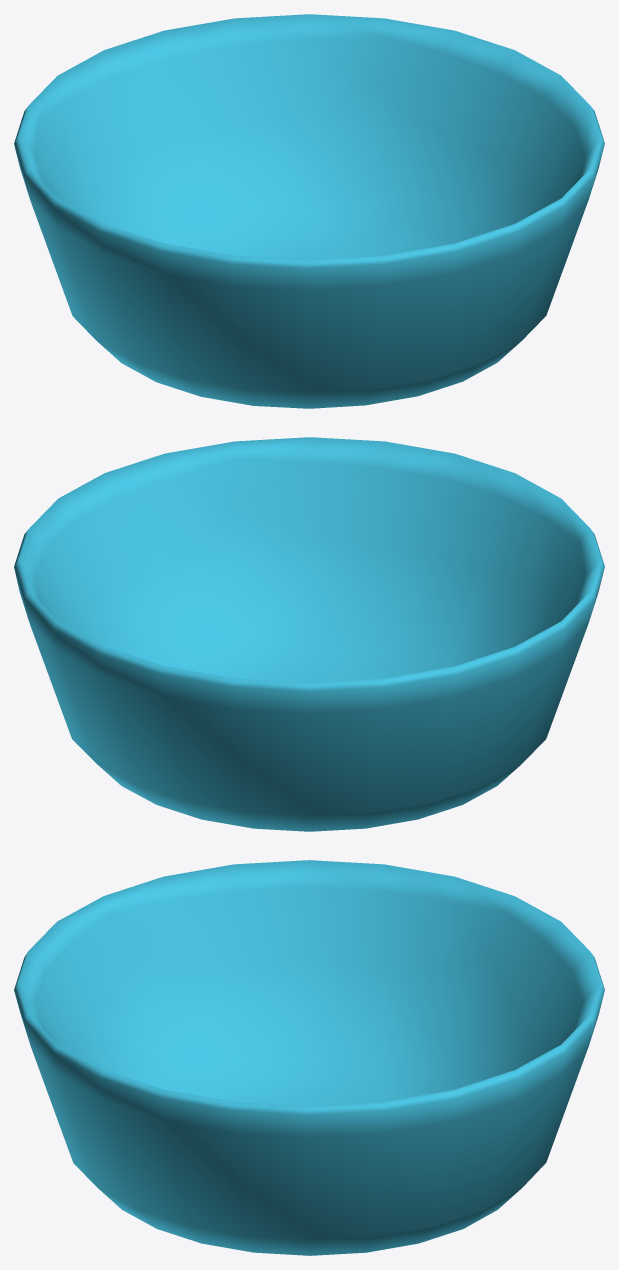
File: soup bowl.FBX
The picture shows the model from 3 angles, top to bottom: view 1: azimuth 30°, elevation 25°; view 2: azimuth 150°, elevation 25°; view 3: azimuth 270°, elevation 25°; orthographic projection.
Visible parts, largest first — view 1: Object002; view 2: Object002; view 3: Object002.
Part boxes in pixels (left/top/right/bottom): Object002: left=14, top=14, right=604, bottom=408; Object002: left=14, top=437, right=604, bottom=831; Object002: left=14, top=860, right=604, bottom=1255.
Bounding box in the file's own units: 22.33 × 8 × 22.29.
